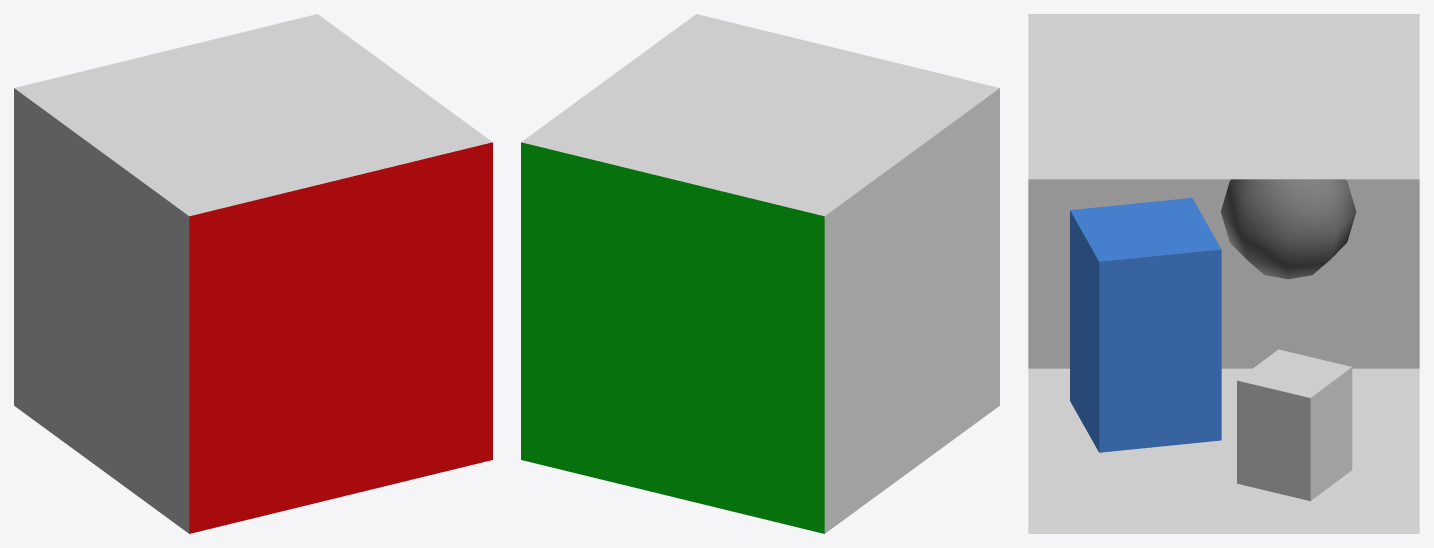
Rendered from gitestlq.gltf.
The picture shows the model from 3 angles, left to right: view 1: azimuth 30°, elevation 25°; view 2: azimuth 150°, elevation 25°; view 3: azimuth 270°, elevation 25°; orthographic projection. The views are drawn at different scales.
Visible parts, largest first — view 1: Cube; view 2: Cube; view 3: Cube, Cube.001, Cube.002, Sphere.
Part boxes in pixels (<box>): Cube: <box>14,14,492,533</box>; Cube: <box>521,14,999,533</box>; Cube: <box>1028,14,1419,533</box>; Cube.001: <box>1070,198,1221,452</box>; Cube.002: <box>1237,349,1352,500</box>; Sphere: <box>1220,179,1356,279</box>.
Size of the model in its own units: 2 by 2 by 2.
